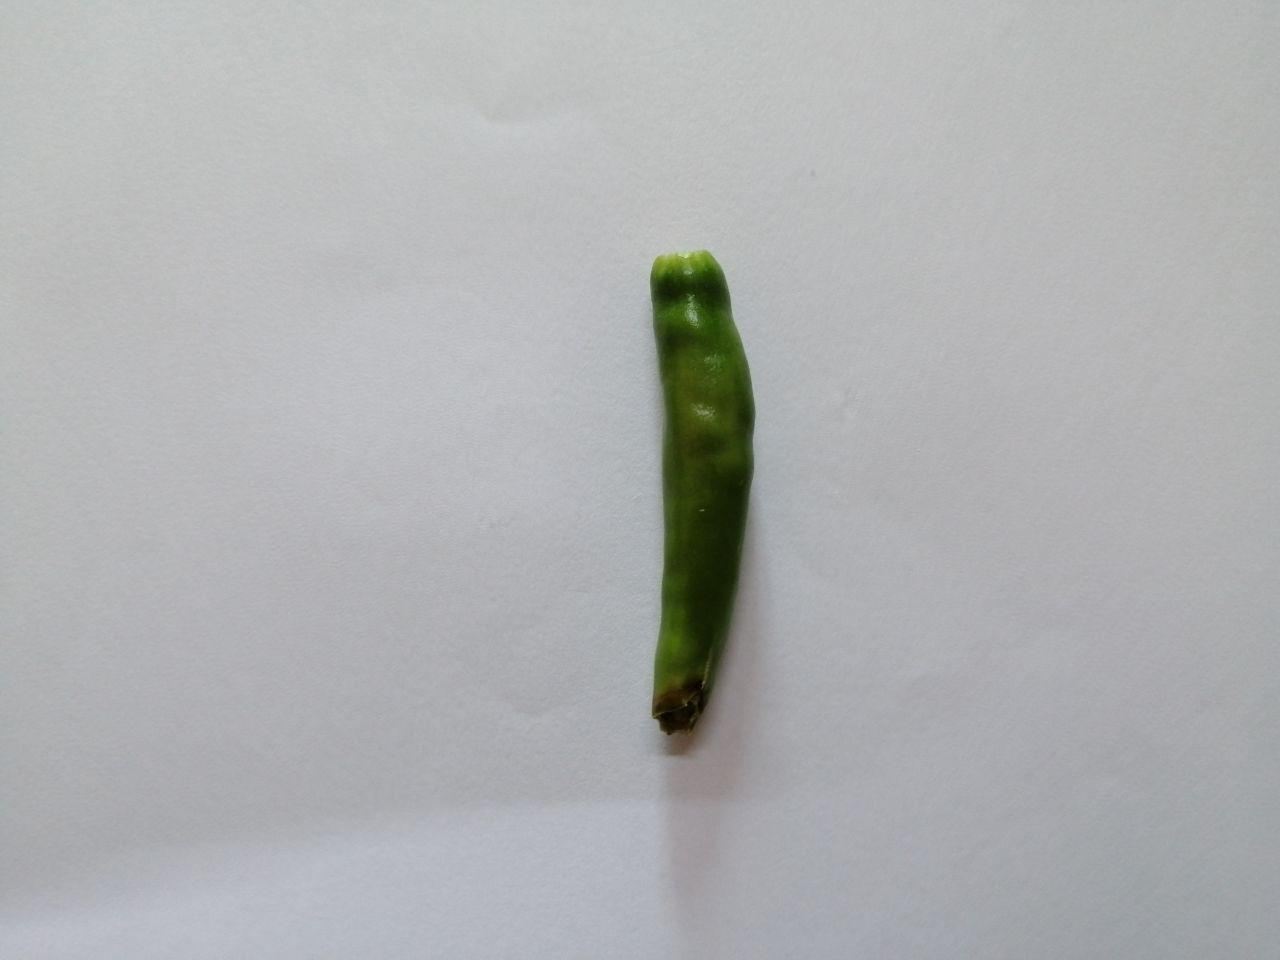lada hijau: (613, 233, 771, 761)
